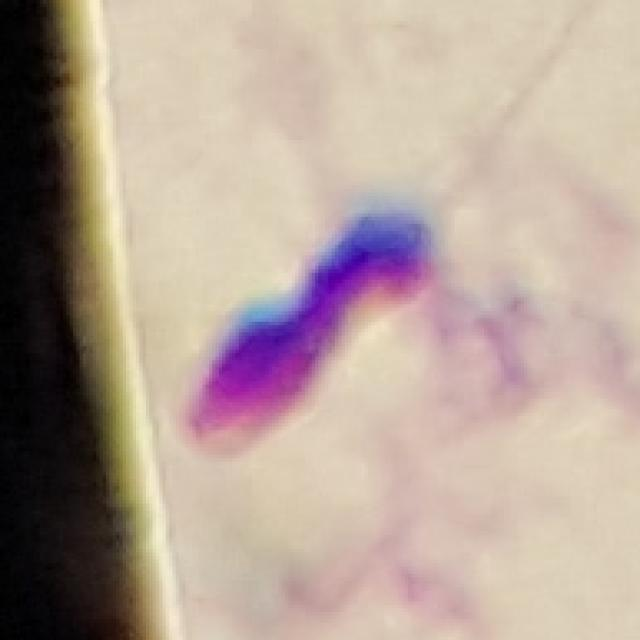abnormal sperm: (169, 123, 504, 484)
